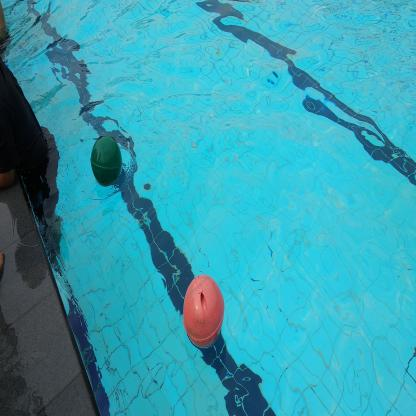green_buoy: (88, 126, 127, 193)
red_buoy: (176, 264, 230, 362)
